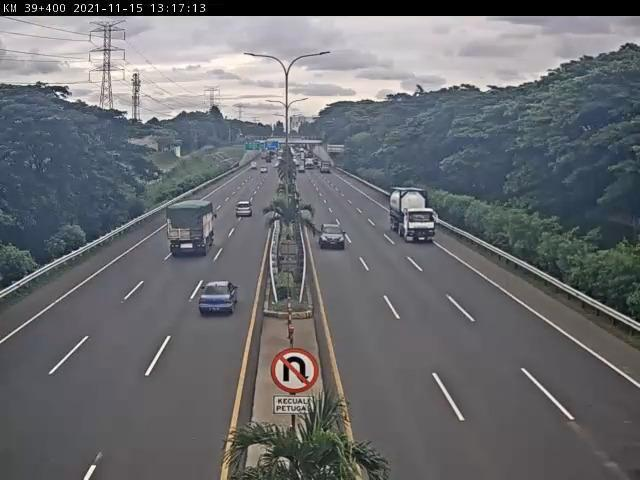car: (198, 279, 240, 317), (318, 222, 348, 253), (236, 200, 255, 220)
truck: (388, 185, 440, 246), (166, 198, 218, 257)
